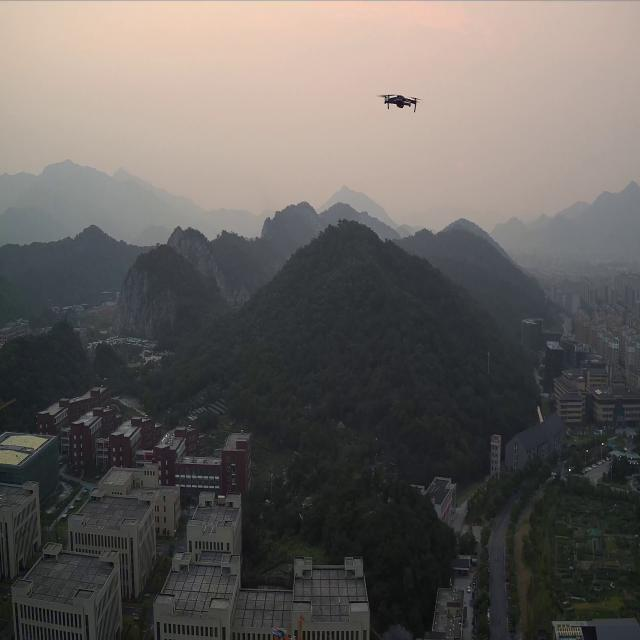UAV: (378, 88, 424, 116)
